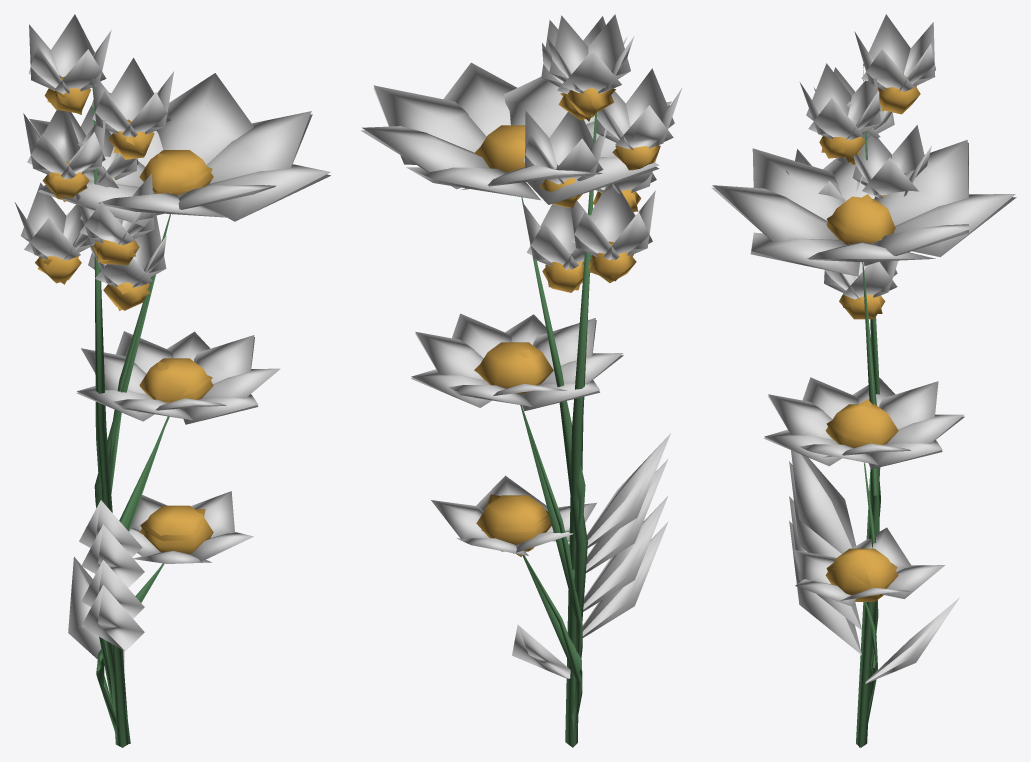
The model's file is meadow-flower-lods.glb.
3 renders of one model, left to right at view 1: azimuth 30°, elevation 25°; view 2: azimuth 150°, elevation 25°; view 3: azimuth 270°, elevation 25°, orthographic. The views are drawn at different scales.
Visible parts, largest first — view 1: lilac-spires-distant, lilac-spires-meadow, coral-cosmos-distant, coral-cosmos-meadow, ivory-anemone-meadow, ivory-anemone-distant, meadow-cups-meadow, meadow-cups-distant; view 2: lilac-spires-meadow, coral-cosmos-distant, lilac-spires-distant, coral-cosmos-meadow, ivory-anemone-meadow, ivory-anemone-distant, meadow-cups-meadow, meadow-cups-distant; view 3: coral-cosmos-distant, lilac-spires-meadow, coral-cosmos-meadow, lilac-spires-distant, meadow-cups-meadow, ivory-anemone-meadow, ivory-anemone-distant, meadow-cups-distant.
Boxes of the visible parts, box(x1,y1,x2,y2) form: lilac-spires-distant: box(15, 14, 173, 557); lilac-spires-meadow: box(21, 46, 170, 747); coral-cosmos-distant: box(29, 73, 330, 668); coral-cosmos-meadow: box(30, 114, 330, 743); ivory-anemone-meadow: box(76, 337, 280, 708); ivory-anemone-distant: box(77, 331, 258, 718); meadow-cups-meadow: box(81, 491, 253, 734); meadow-cups-distant: box(96, 508, 205, 703); lilac-spires-meadow: box(523, 37, 682, 747); coral-cosmos-distant: box(362, 62, 671, 678); lilac-spires-distant: box(522, 14, 673, 545); coral-cosmos-meadow: box(361, 88, 669, 745); ivory-anemone-meadow: box(411, 313, 667, 702); ivory-anemone-distant: box(411, 314, 667, 648); meadow-cups-meadow: box(431, 475, 668, 737); meadow-cups-distant: box(481, 494, 667, 682); coral-cosmos-distant: box(712, 140, 1015, 683); lilac-spires-meadow: box(786, 43, 935, 747); coral-cosmos-meadow: box(711, 142, 1016, 747); lilac-spires-distant: box(786, 14, 935, 547); meadow-cups-meadow: box(789, 521, 945, 723); ivory-anemone-meadow: box(763, 381, 964, 696); ivory-anemone-distant: box(764, 377, 964, 658); meadow-cups-distant: box(790, 522, 897, 702).
Bounding box in the file's own units: 0.4852 × 1.16 × 0.46.
